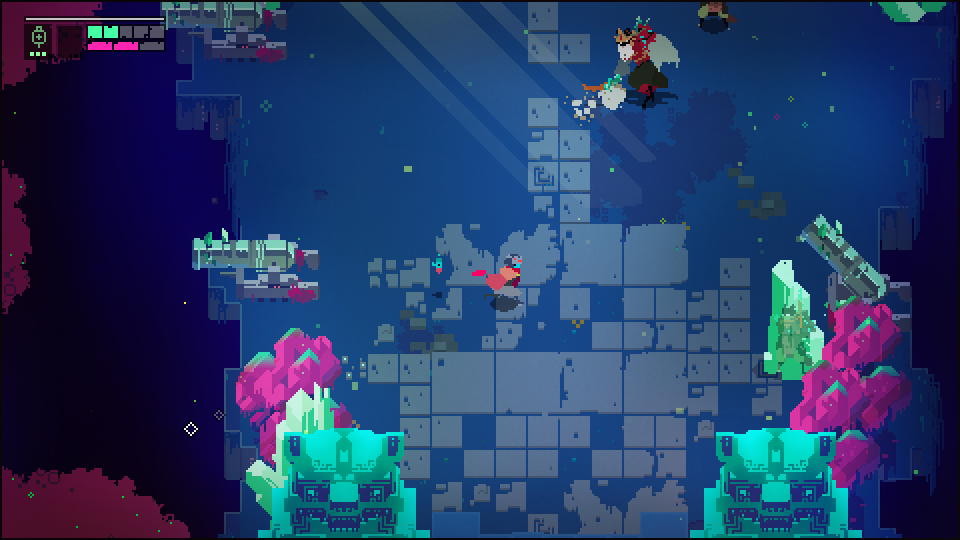hanged_man: (599, 23, 681, 101)
player: (486, 255, 524, 296)
